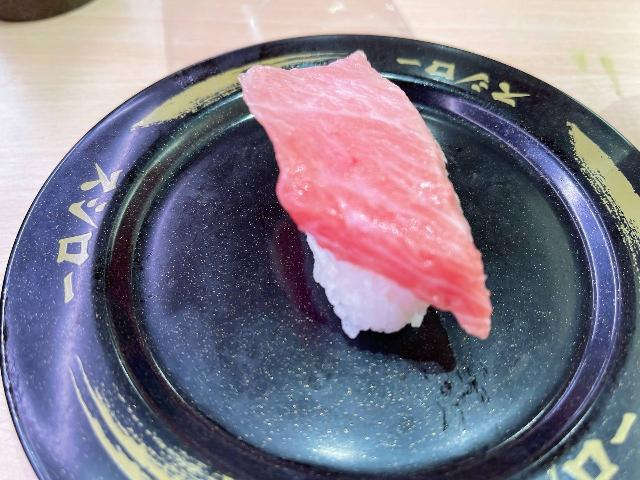janback: (73, 48, 627, 480)
